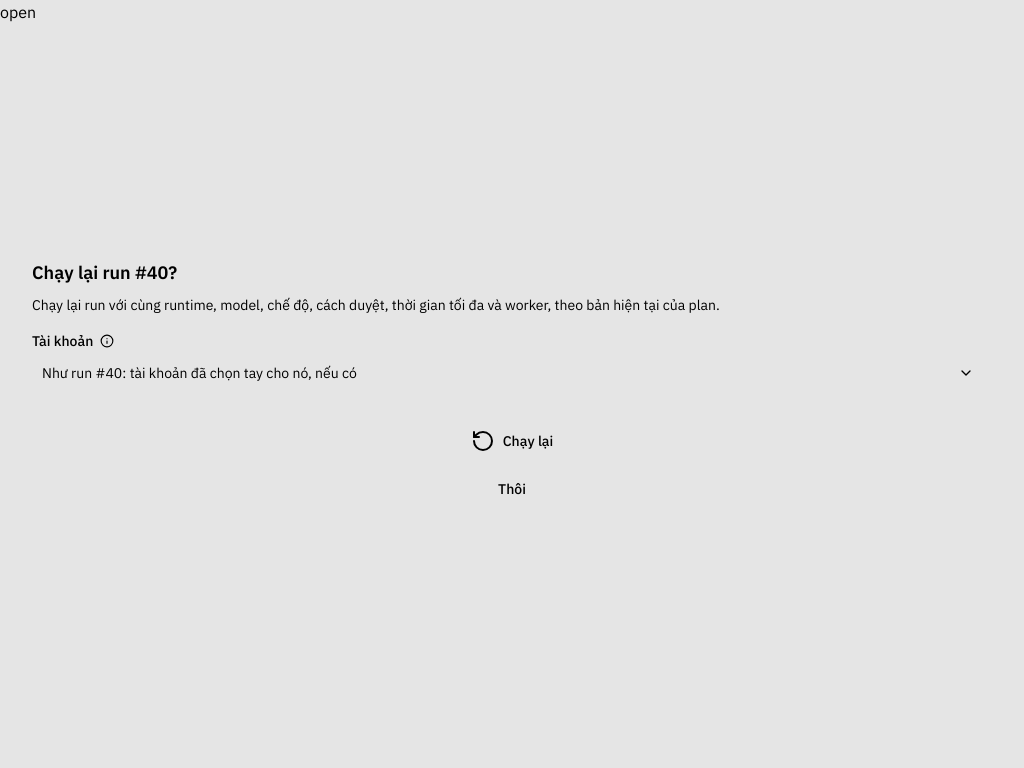
Test: RerunDialog › sends the account picked, or asks the rules
The image size is (1024, 768).
Select "claude-b (CLAUDE_CODE_OAUTH_TOKEN)" in the dropdown with test id "dispatch-account-select": (512, 373) [32, 357, 992, 389]
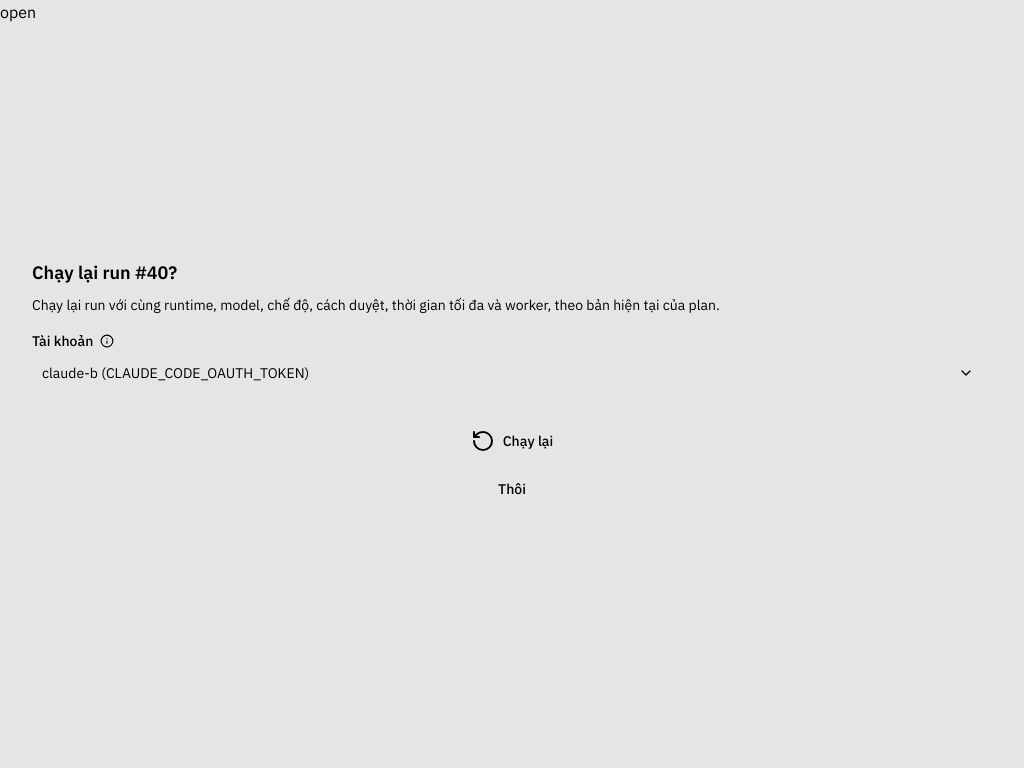
Click the button with test id "rerun-confirm": (512, 441) [32, 421, 992, 461]
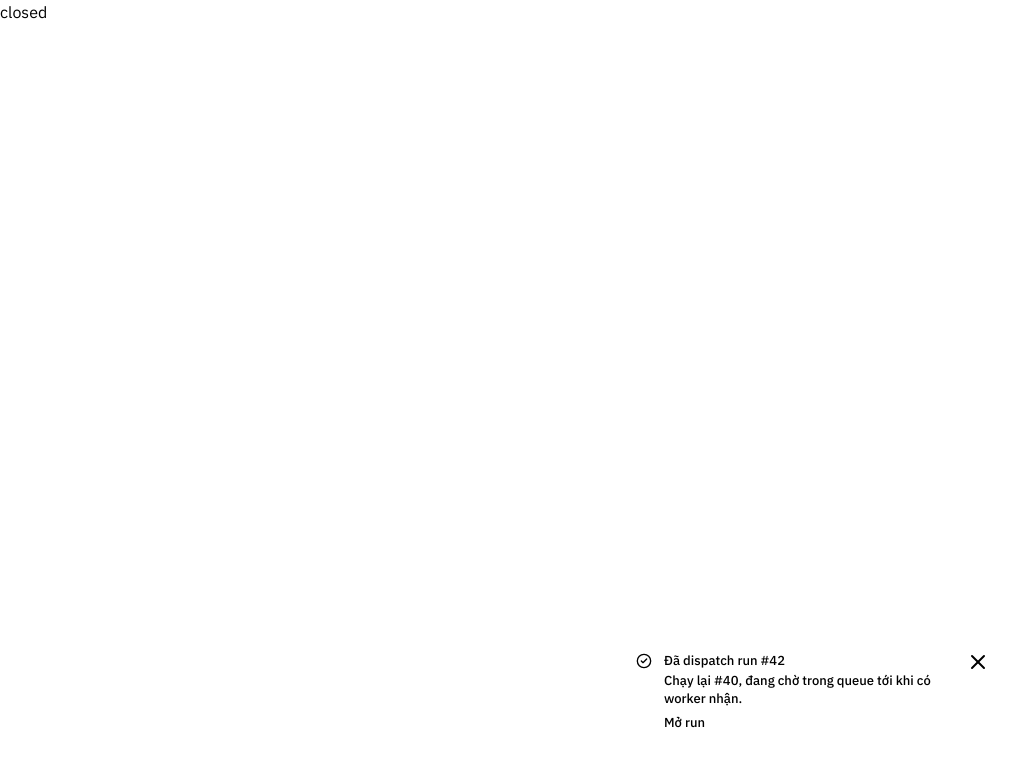
Now the text with test id "open-state" reads "closed", box [0, 2, 47, 22]
